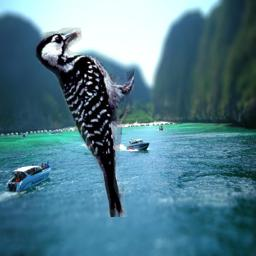Woodpecker: (34, 26, 134, 217)
